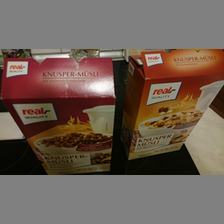cereal: (1, 57, 117, 173), (122, 53, 224, 160)
